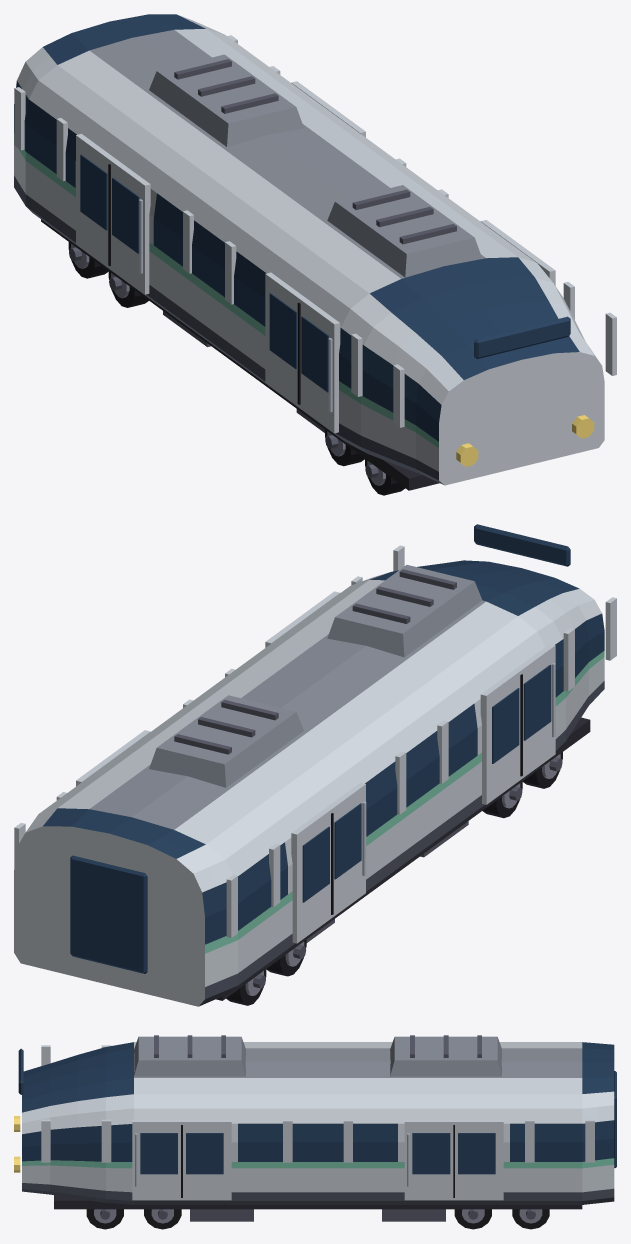
File: metro-train-front.glb
The picture shows the model from 3 angles, top to bottom: view 1: azimuth 30°, elevation 25°; view 2: azimuth 150°, elevation 25°; view 3: azimuth 270°, elevation 25°; orthographic projection. The views are drawn at different scales.
Parts seen in each view (by area): view 1: MetroTrainFront; view 2: MetroTrainFront; view 3: MetroTrainFront.
Part boxes in pixels (x1=…): MetroTrainFront: x1=14, y1=14, x2=616, y2=495; MetroTrainFront: x1=14, y1=524, x2=616, y2=1006; MetroTrainFront: x1=14, y1=1035, x2=616, y2=1229.
Size of the model in its own units: 1.18 by 1.07 by 3.77.
Materials: 1 (1 with a texture image).
